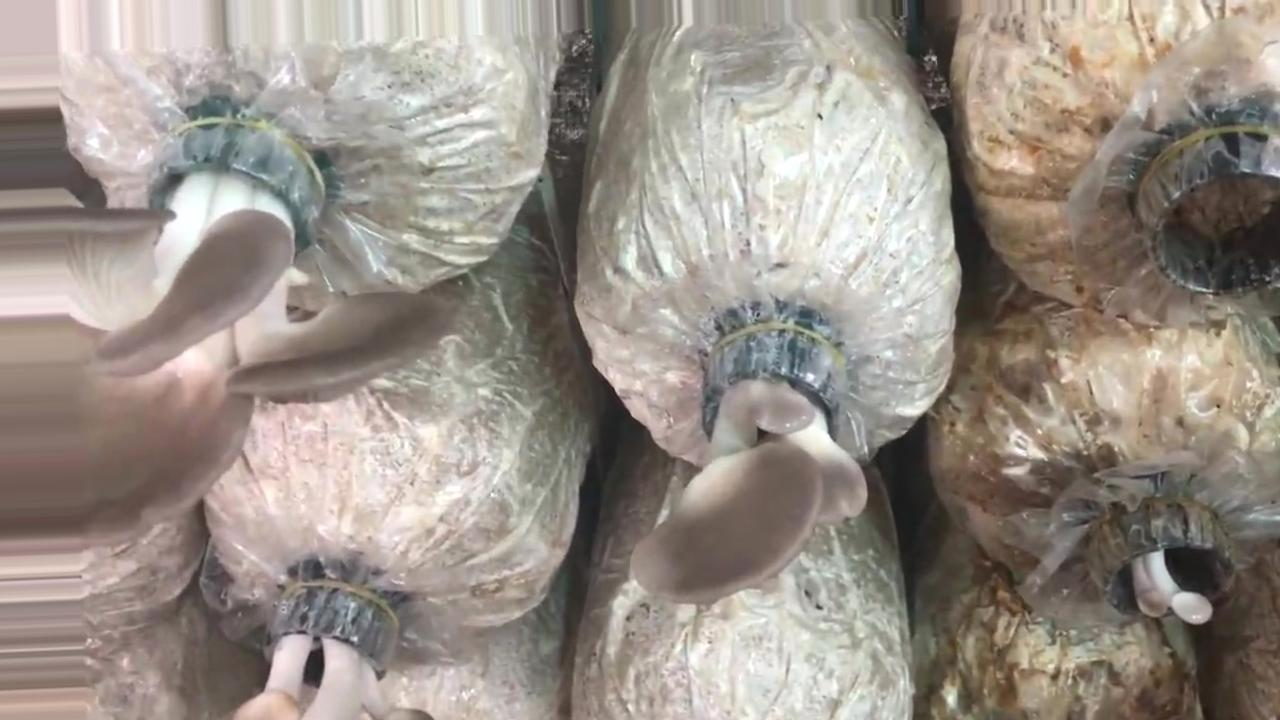nam: (1, 132, 461, 552), (632, 335, 871, 603), (1099, 510, 1235, 625)
